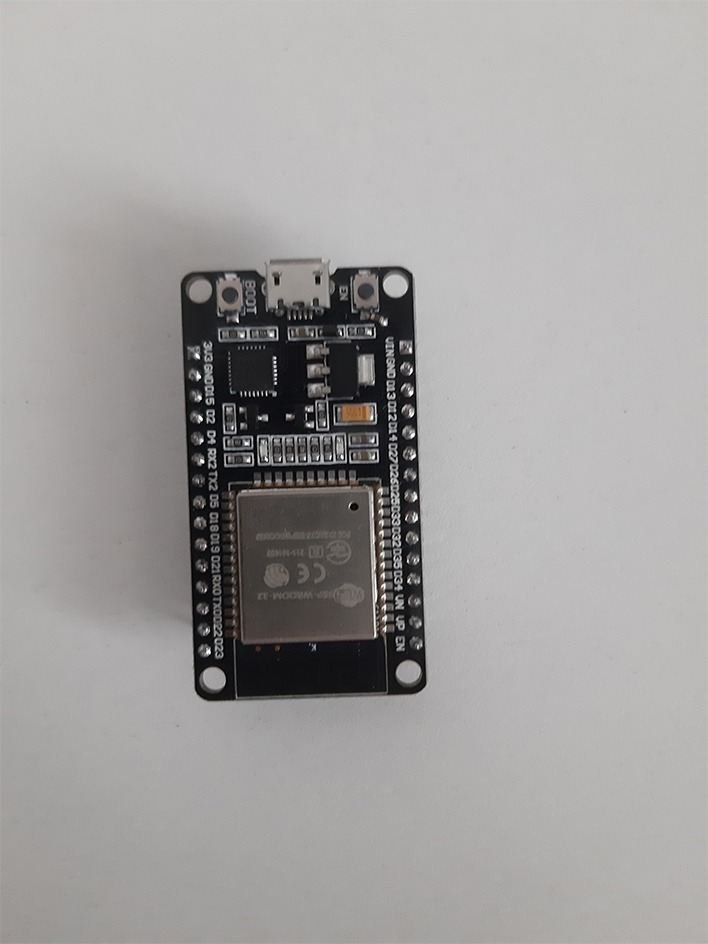ESP32-WROOM: (158, 248, 476, 739)
